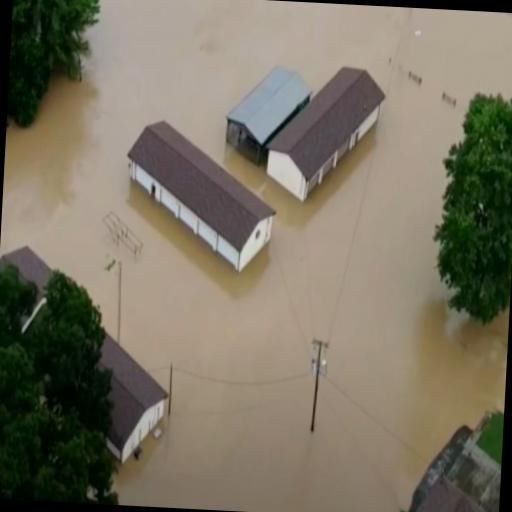flood: (0, 0, 512, 512)
house: (0, 242, 175, 463), (112, 110, 293, 280), (210, 52, 397, 204), (220, 64, 311, 172), (398, 465, 501, 512)
